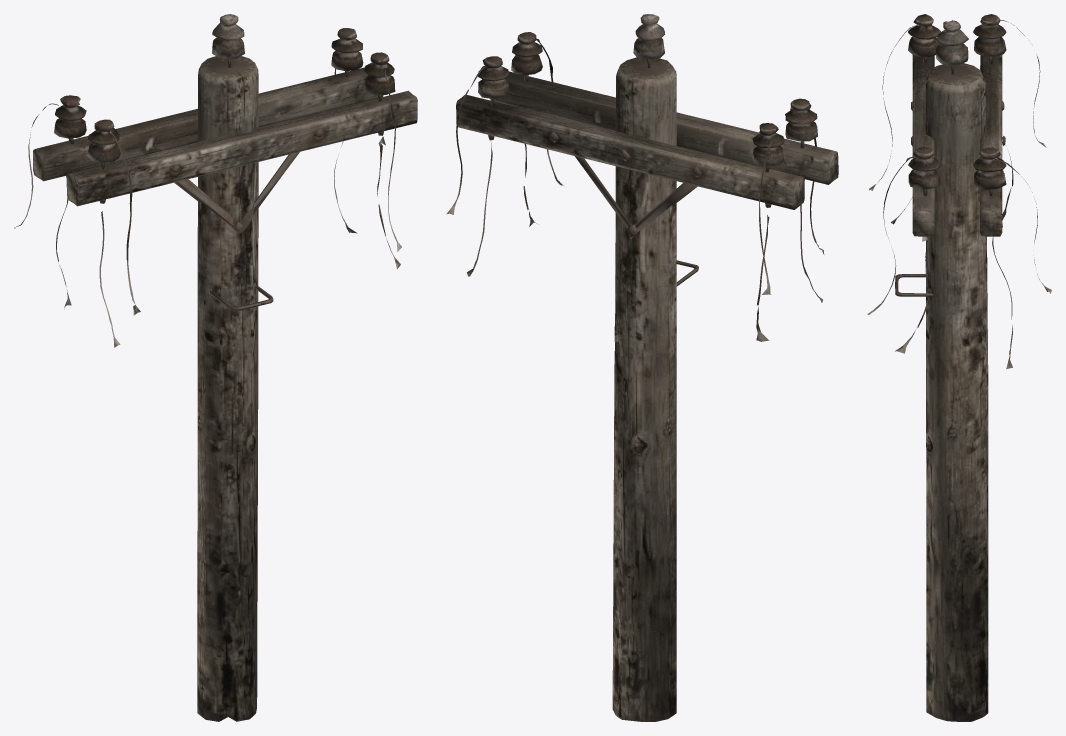
Rendered from power_pole.glb.
The picture shows the model from 3 angles, left to right: view 1: azimuth 30°, elevation 25°; view 2: azimuth 150°, elevation 25°; view 3: azimuth 270°, elevation 25°; orthographic projection.
Parts seen in each view (by area): view 1: hull; view 2: hull; view 3: hull.
Boxes of the visible parts, <box> form: hull: <box>14,14,417,721</box>; hull: <box>446,14,838,721</box>; hull: <box>867,14,1051,721</box>.
Bounding box in the file's own units: 4.6 × 8.97 × 2.19.
1 material, 1 textured.
